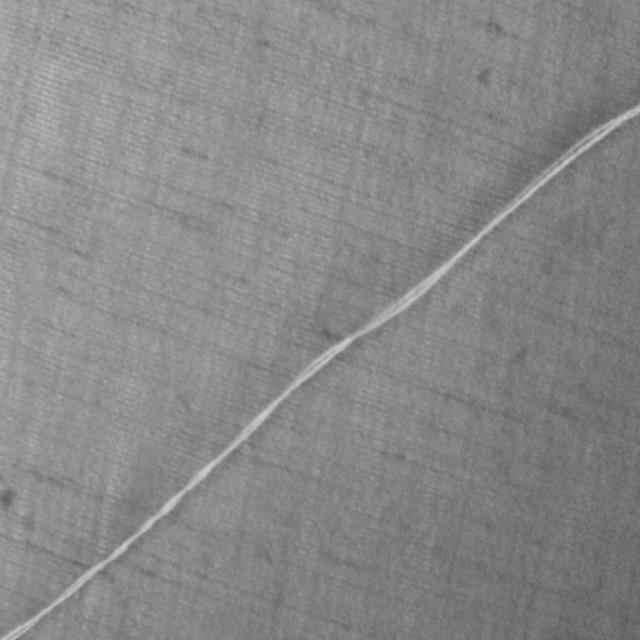Thread: (0, 100, 640, 638)
